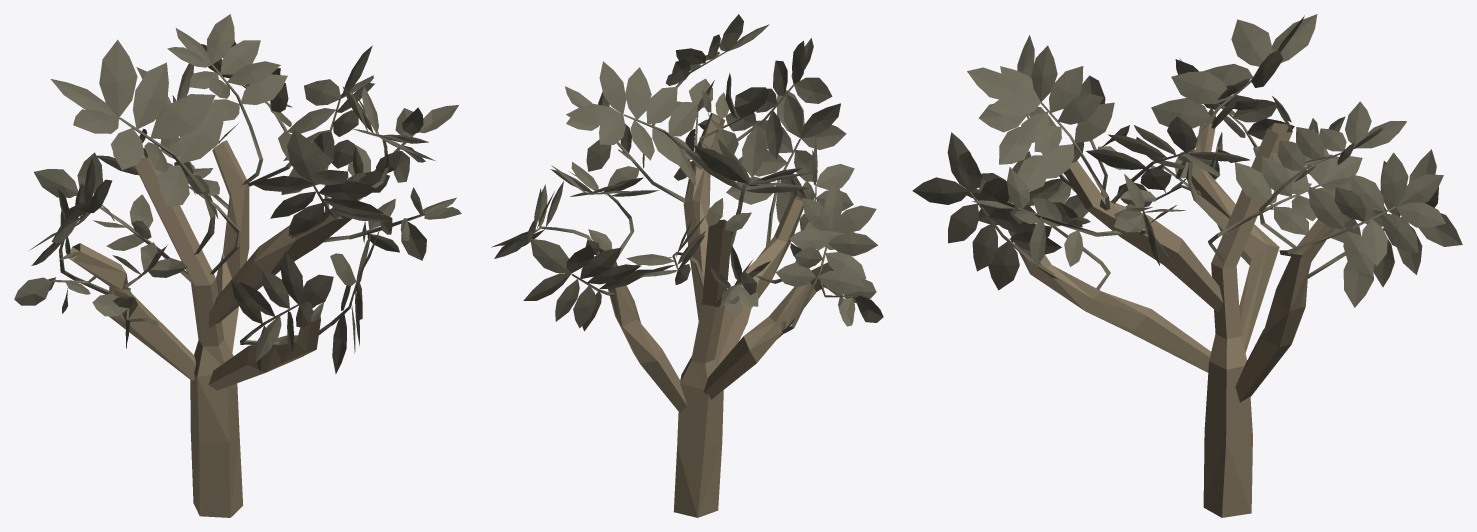
Rendered from Apple_6_3.fbx.
3 renders of one model, left to right at view 1: azimuth 30°, elevation 25°; view 2: azimuth 150°, elevation 25°; view 3: azimuth 270°, elevation 25°, orthographic. The views are drawn at different scales.
Visible parts, largest first — view 1: Apple_6_3; view 2: Apple_6_3; view 3: Apple_6_3.
Boxes of the visible parts, x1,y1,x2,y2 form: Apple_6_3: [14, 14, 461, 517]; Apple_6_3: [491, 14, 883, 517]; Apple_6_3: [912, 14, 1462, 517].
Size of the model in its own units: 336 by 382 by 395.
